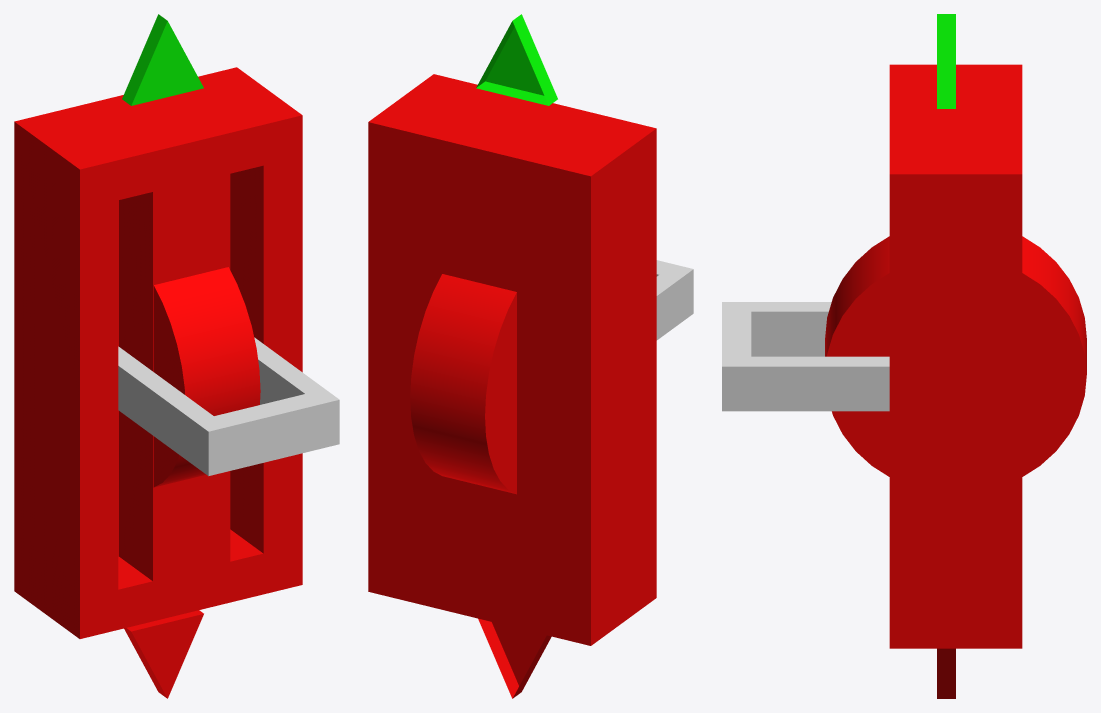
File: accelerator.fbx
3 views of the same model, side by side, from view 1: azimuth 30°, elevation 25°; view 2: azimuth 150°, elevation 25°; view 3: azimuth 270°, elevation 25° (orthographic).
Visible parts, largest first — view 1: body_Accel, lever; view 2: body_Accel, lever; view 3: body_Accel, lever.
Part boxes in pixels (<box>): body_Accel: <box>14,14,302,698</box>; lever: <box>118,337,339,476</box>; body_Accel: <box>368,14,656,698</box>; lever: <box>656,260,693,340</box>; body_Accel: <box>825,14,1086,698</box>; lever: <box>722,302,889,411</box>.
Size of the model in its own units: 99.24 by 289 by 139.
